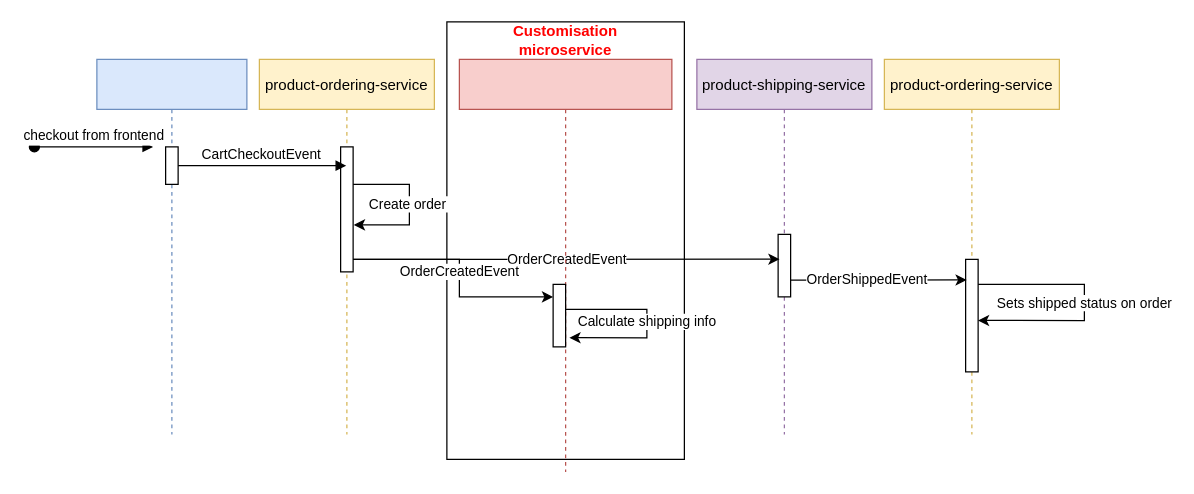
The diagram is 1194 pixels wide and 494 high, and some of its shapes have lost their labels. The box of each missing label's shape, as (x1, y1, x2, y2) in pixels:
shopping-cart-service: (96, 58, 247, 434)
tenant-x-shipping-information: (458, 58, 672, 472)
